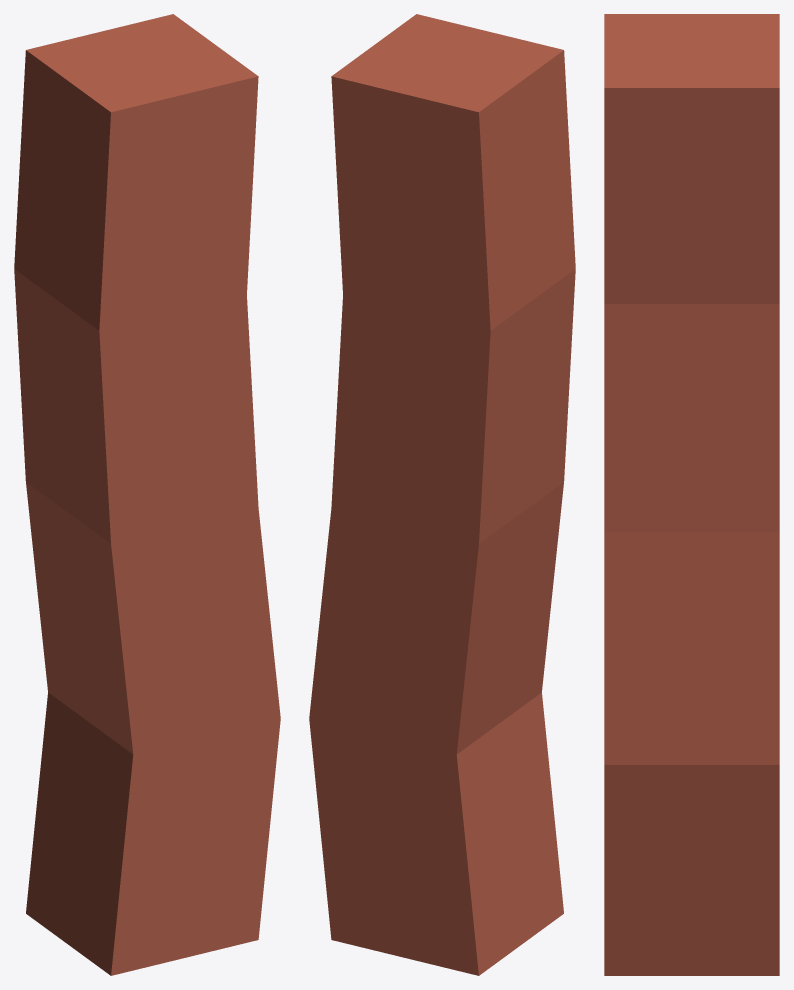
The model's file is wood_2b.fbx.
3 renders of one model, left to right at view 1: azimuth 30°, elevation 25°; view 2: azimuth 150°, elevation 25°; view 3: azimuth 270°, elevation 25°, orthographic. The views are drawn at different scales.
Visible parts, largest first — view 1: wood_2b; view 2: wood_2b; view 3: wood_2b.
Part boxes in pixels (x1,y1,x2,y2): wood_2b: [14, 14, 280, 975]; wood_2b: [309, 14, 575, 975]; wood_2b: [604, 14, 779, 975].
Size of the model in its own units: 45.58 by 207 by 37.07.
